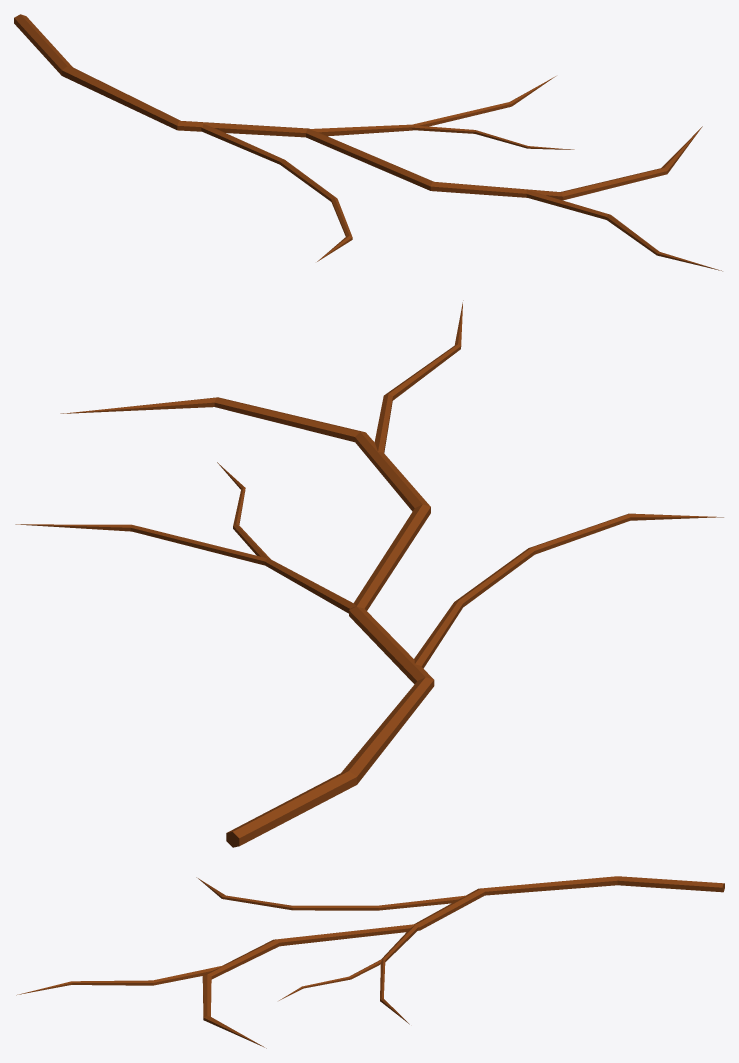
Rendered from Vegetation_Tree_Roots_Vines_Snaking_08.FBX.
The picture shows the model from 3 angles, top to bottom: view 1: azimuth 30°, elevation 25°; view 2: azimuth 150°, elevation 25°; view 3: azimuth 270°, elevation 25°; orthographic projection. The views are drawn at different scales.
Visible parts, largest first — view 1: Vegetation_Tree_Roots_Vines_Snaking_08; view 2: Vegetation_Tree_Roots_Vines_Snaking_08; view 3: Vegetation_Tree_Roots_Vines_Snaking_08.
Boxes of the visible parts, x1,y1,x2,y2 form: Vegetation_Tree_Roots_Vines_Snaking_08: (14, 14, 722, 271); Vegetation_Tree_Roots_Vines_Snaking_08: (15, 300, 723, 847); Vegetation_Tree_Roots_Vines_Snaking_08: (16, 876, 724, 1048).
Size of the model in its own units: 7111 by 177 by 12431.
